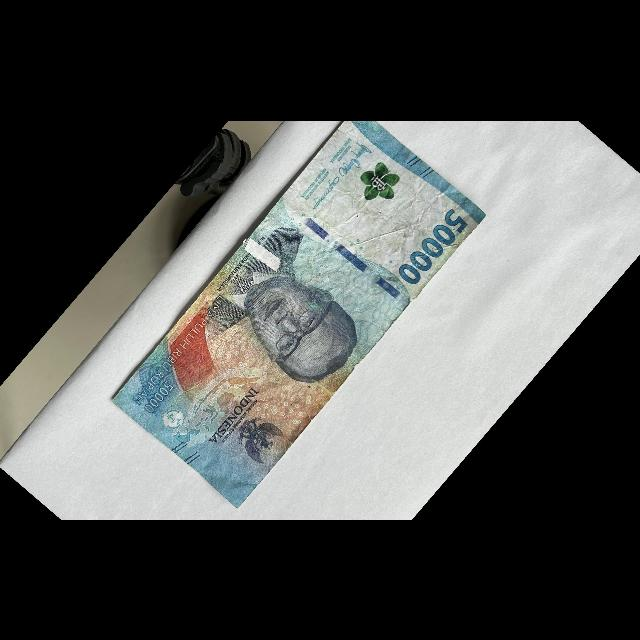Palsu-50k: (106, 102, 489, 512)
Tinta-Palsu-50k: (350, 156, 407, 213)
